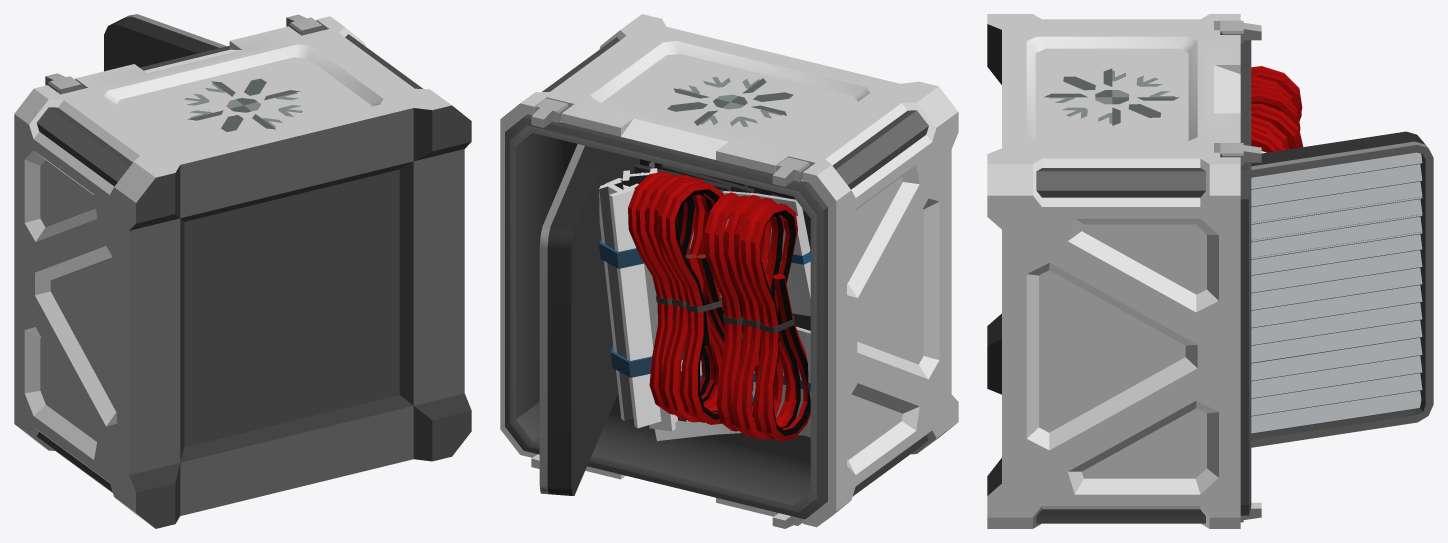
The model's file is ItemKitRadioTower.fbx.
3 renders of one model, left to right at view 1: azimuth 30°, elevation 25°; view 2: azimuth 150°, elevation 25°; view 3: azimuth 270°, elevation 25°, orthographic. The views are drawn at different scales.
Visible parts, largest first — view 1: ItemKitRadioTower; view 2: ItemKitRadioTower; view 3: ItemKitRadioTower.
Part boxes in pixels (<box>): ItemKitRadioTower: <box>14,14,471,528</box>; ItemKitRadioTower: <box>500,14,958,528</box>; ItemKitRadioTower: <box>987,14,1433,528</box>.
Bounding box in the file's own units: 53999 × 54612 × 59861.
